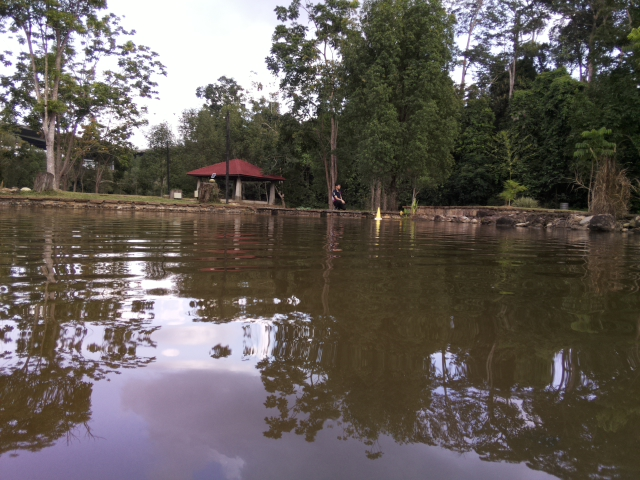checkpoint: (372, 207, 385, 221)
